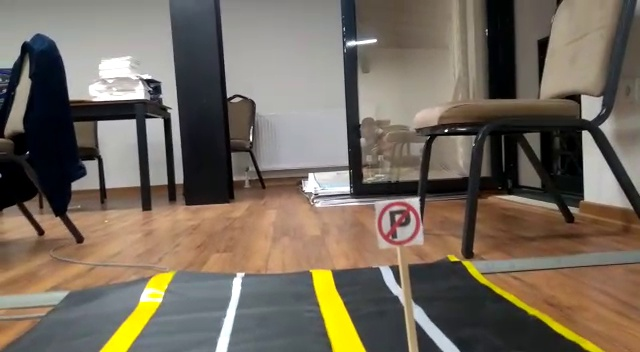park_yapilmaz: (378, 201, 421, 244)
